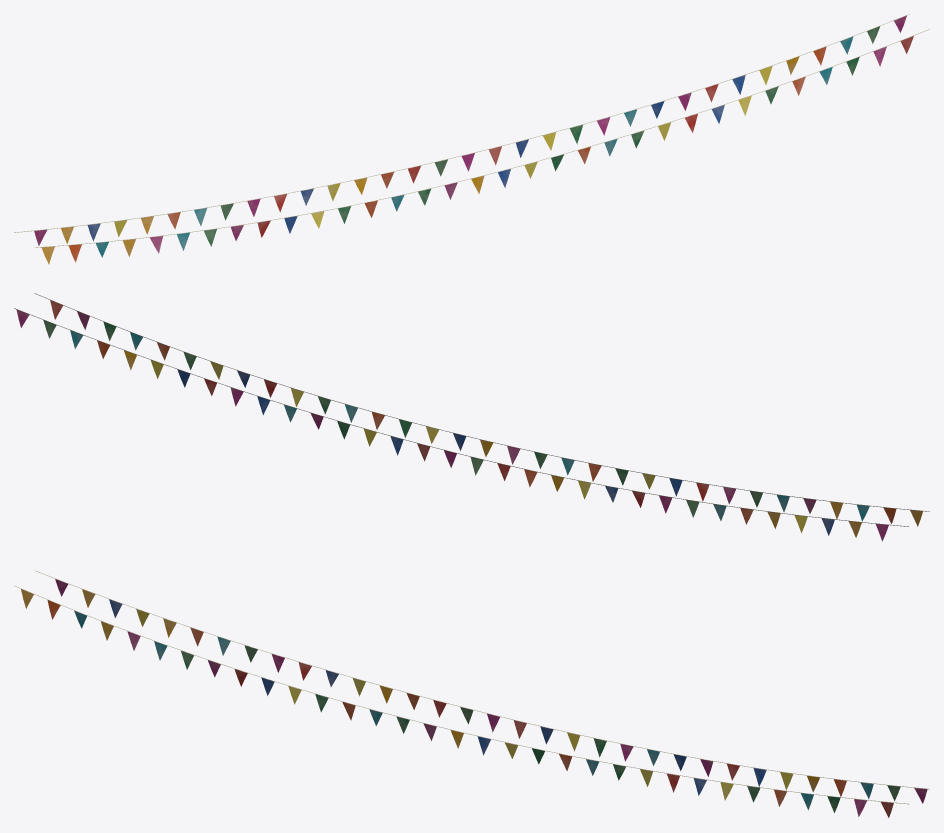
Rendered from bunting.glb.
3 renders of one model, top to bottom at view 1: azimuth 30°, elevation 25°; view 2: azimuth 150°, elevation 25°; view 3: azimuth 330°, elevation 25°, orthographic.
Parts seen in each view (by area): view 1: body; view 2: body; view 3: body.
Boxes of the visible parts, box(x1,y1,x2,y2) form: body: box(14, 14, 929, 264); body: box(14, 293, 929, 541); body: box(14, 570, 929, 817).
Bounding box in the file's own units: 20 × 1.17 × 1.02.
Materials: 1 (1 with a texture image).
